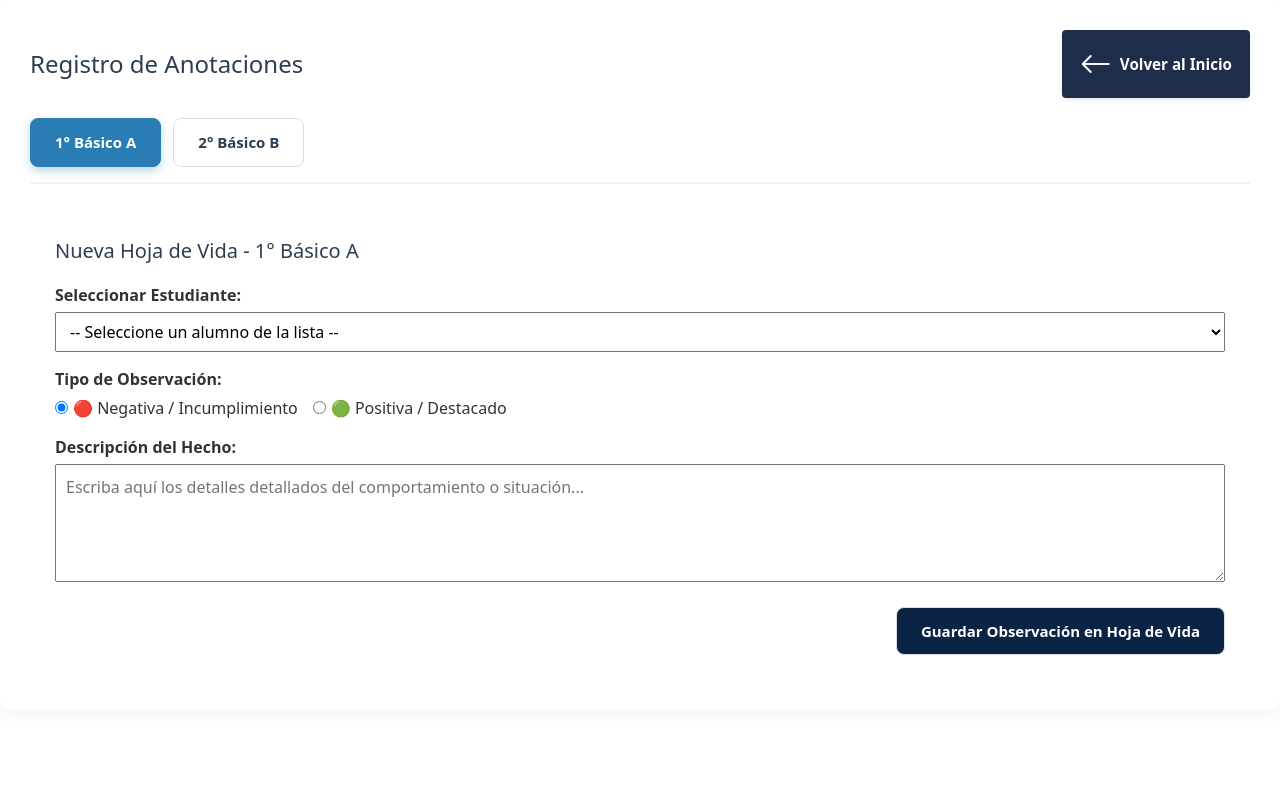
Test: Anotaciones › Formulario de anotación › se puede cambiar el tipo de anotación a Positiva
Expected: the text "Seleccionar Estudiante:" is shown, [55,284,241,306]
What coordinates should you click on to do the following:
click the radio button showing "Positiva"
I would click on:
 (319, 408)
Its box is [313,401,326,414].
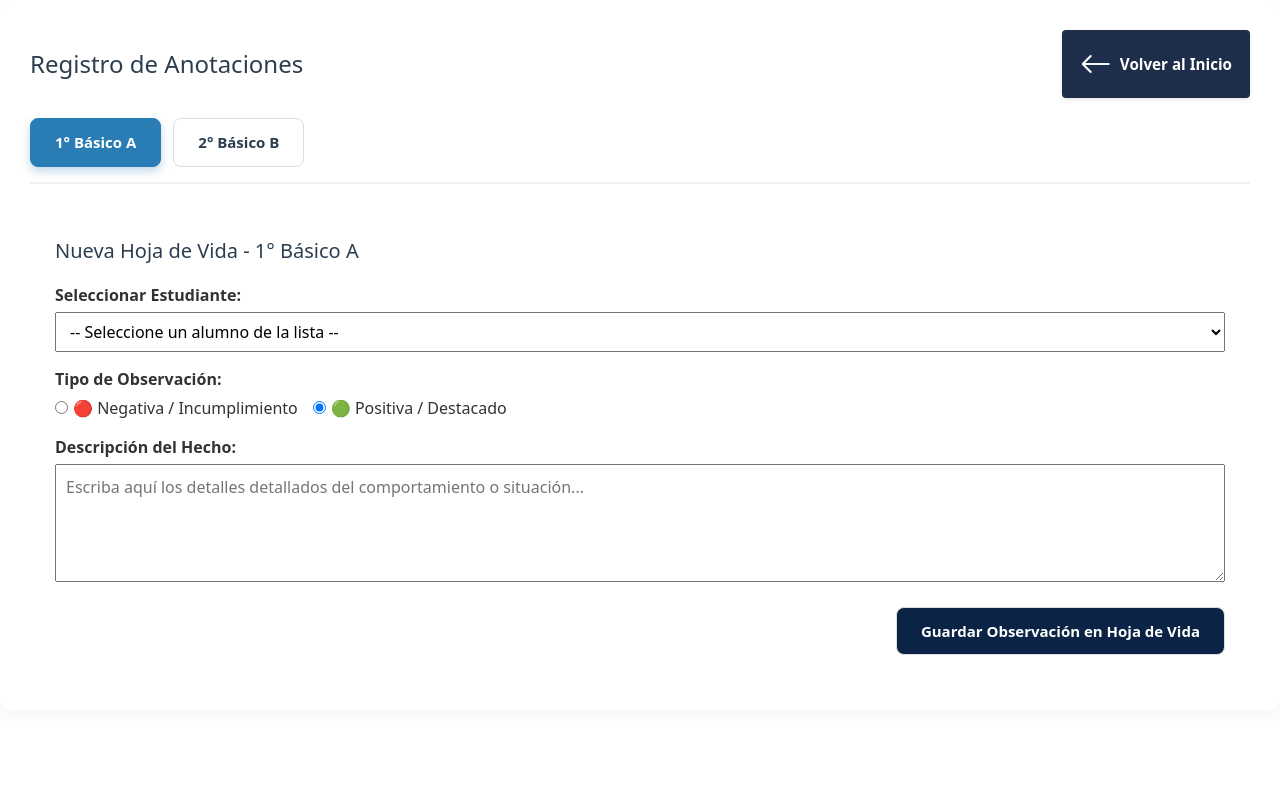
Expected: the radio button showing "Positiva" is checked, [313,401,326,414]
Expected: the radio button showing "Negativa" is not checked, [55,401,68,414]
